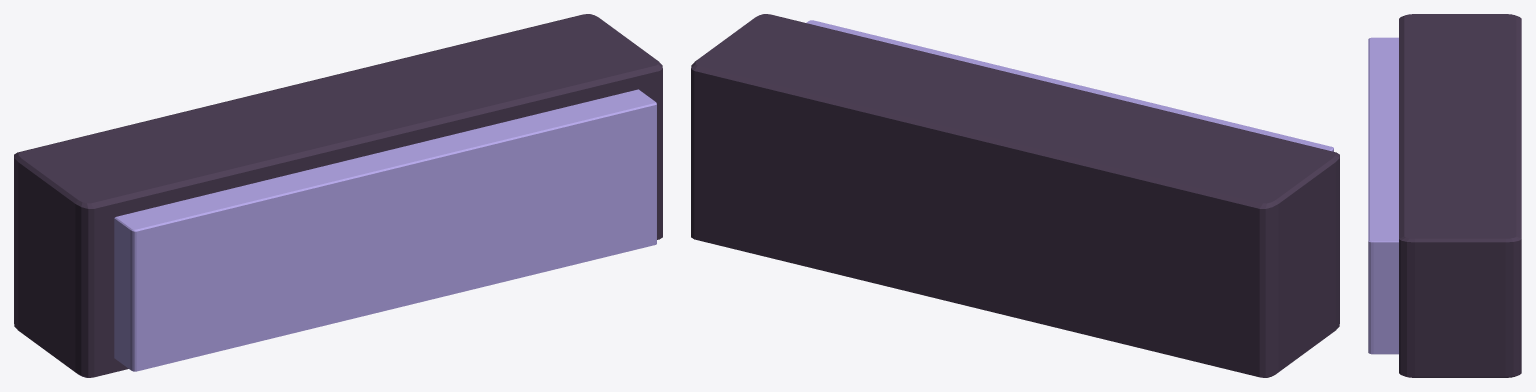
File: tile_type_badge.glb
3 renders of one model, left to right at view 1: azimuth 30°, elevation 25°; view 2: azimuth 150°, elevation 25°; view 3: azimuth 270°, elevation 25°, orthographic. The views are drawn at different scales.
Visible parts, largest first — view 1: panel, frame; view 2: frame, panel; view 3: frame, panel.
Part boxes in pixels (bbox=[...]): panel: bbox=[114, 89, 656, 371]; frame: bbox=[14, 14, 662, 377]; frame: bbox=[691, 14, 1339, 377]; panel: bbox=[806, 20, 1333, 151]; frame: bbox=[1399, 14, 1521, 377]; panel: bbox=[1368, 37, 1398, 354].
Size of the model in its own units: 0.7 by 0.2 by 0.2.
